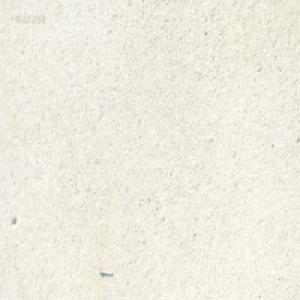Nail: (98, 266, 113, 276)
